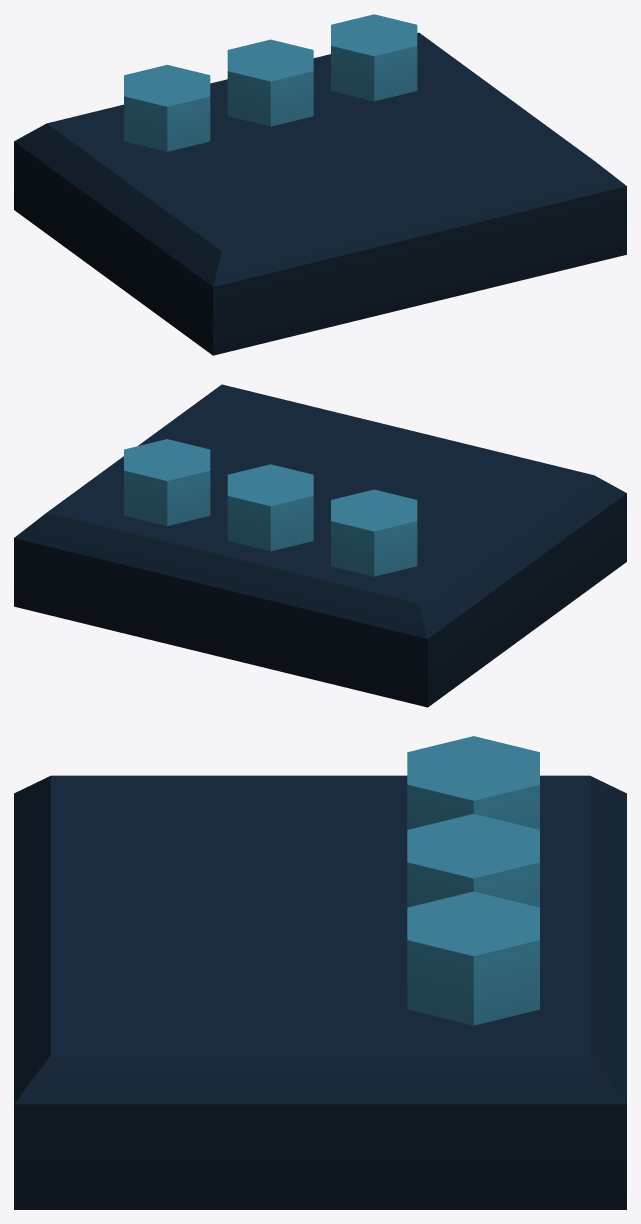
The model's file is speed-module.glb.
3 views of the same model, one above another, from view 1: azimuth 30°, elevation 25°; view 2: azimuth 150°, elevation 25°; view 3: azimuth 270°, elevation 25° (orthographic). The views are drawn at different scales.
Visible parts, largest first — view 1: speed-module; view 2: speed-module; view 3: speed-module.
Boxes of the visible parts, x1,y1,x2,y2 form: speed-module: (14,14,626,355); speed-module: (14,384,626,707); speed-module: (14,736,626,1209).
Size of the model in its own units: 0.24 by 0.075 by 0.2.
